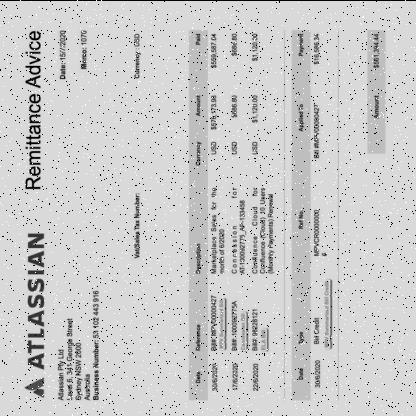Paragraph: (189, 32, 291, 400)
